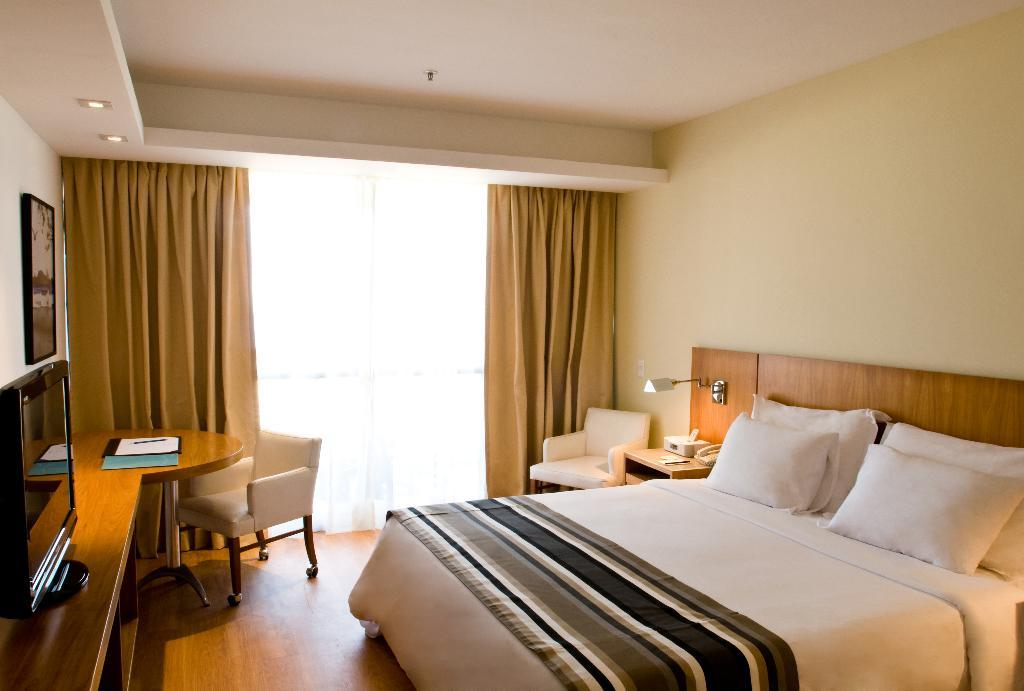Chair: (164, 440, 323, 606), (529, 407, 655, 492)
